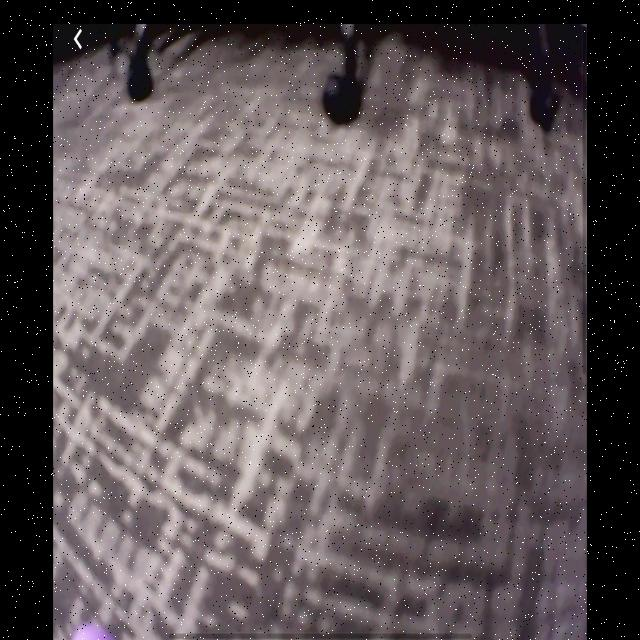ball: (72, 621, 115, 640)
